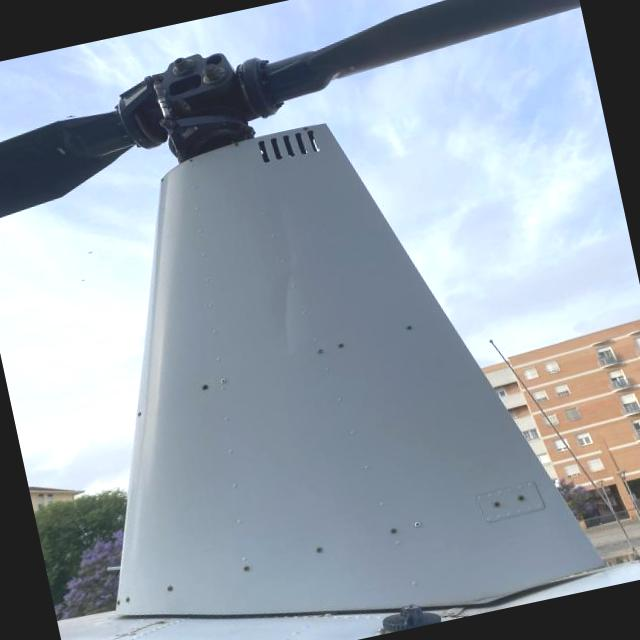dent: (243, 204, 328, 361)
